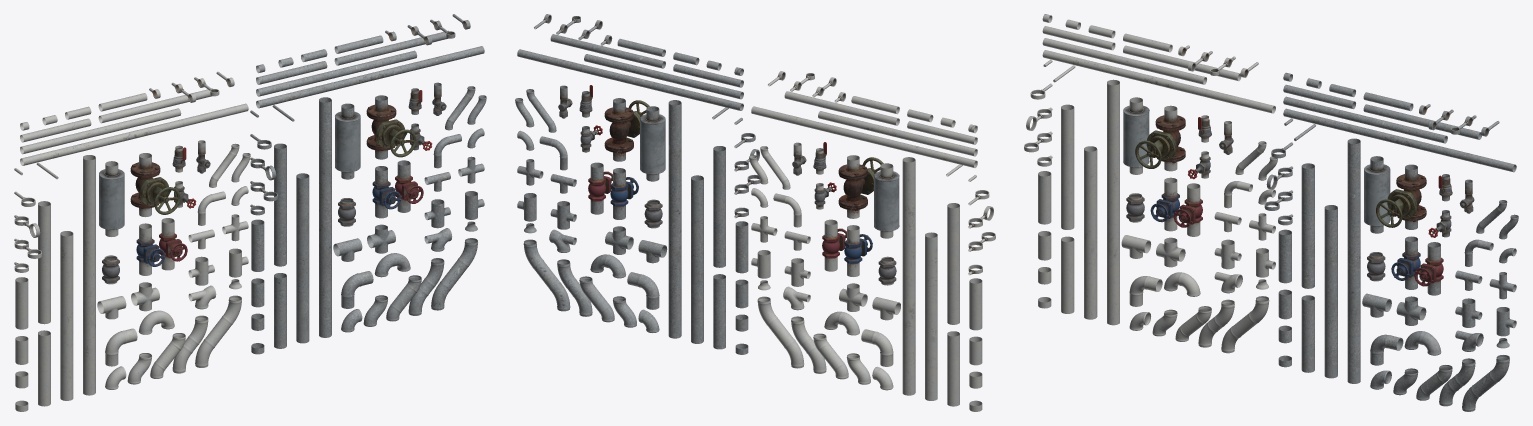
3 views of the same model, side by side, from view 1: azimuth 30°, elevation 25°; view 2: azimuth 150°, elevation 25°; view 3: azimuth 330°, elevation 25° (orthographic). The views are drawn at different scales.
Parts seen in each view (by area): view 1: pipe_200cm_pvc, pipe_200cm_metal, pipe_140cm_metal, pipe_140cm_pvc, pipe_thin_200cm_pvc, pipe_thin_200cm_metal, pipe_valve_large_metal, pipe_valve_large_pvc, pipe_chamber_large_metal, pipe_chamber_large_pvc, pipe_100cm_metal, pipe_100cm_pvc (+35 smaller); view 2: pipe_200cm_pvc, pipe_200cm_metal, pipe_140cm_pvc, pipe_140cm_metal, pipe_thin_200cm_metal, pipe_thin_200cm_pvc, pipe_chamber_large_metal, pipe_chamber_large_pvc, pipe_valve_large_pvc, pipe_valve_large_metal, pipe_100cm_metal, pipe_100cm_pvc (+35 smaller); view 3: pipe_200cm_metal, pipe_200cm_pvc, pipe_140cm_metal, pipe_140cm_pvc, pipe_thin_200cm_metal, pipe_thin_200cm_pvc, pipe_valve_large_pvc, pipe_valve_large_metal, pipe_100cm_pvc, pipe_100cm_metal, pipe_chamber_large_pvc, pipe_chamber_large_metal (+33 smaller).
Part boxes in pixels (bbox=[...]): pipe_200cm_pvc: bbox=[83, 155, 95, 395]; pipe_200cm_metal: bbox=[319, 97, 331, 337]; pipe_140cm_metal: bbox=[296, 173, 309, 343]; pipe_140cm_pvc: bbox=[60, 231, 73, 400]; pipe_thin_200cm_pvc: bbox=[20, 103, 248, 165]; pipe_thin_200cm_metal: bbox=[256, 46, 484, 108]; pipe_valve_large_metal: bbox=[366, 95, 416, 159]; pipe_valve_large_pvc: bbox=[130, 153, 180, 217]; pipe_chamber_large_metal: bbox=[335, 103, 360, 179]; pipe_chamber_large_pvc: bbox=[99, 161, 124, 236]; pipe_100cm_metal: bbox=[274, 143, 286, 266]; pipe_100cm_pvc: bbox=[38, 201, 50, 324]; pipe_200cm_pvc: bbox=[902, 157, 915, 395]; pipe_200cm_metal: bbox=[668, 100, 681, 338]; pipe_140cm_pvc: bbox=[925, 232, 937, 400]; pipe_140cm_metal: bbox=[691, 175, 703, 343]; pipe_thin_200cm_metal: bbox=[517, 49, 743, 110]; pipe_thin_200cm_pvc: bbox=[751, 106, 977, 167]; pipe_chamber_large_metal: bbox=[640, 106, 665, 181]; pipe_chamber_large_pvc: bbox=[874, 163, 899, 238]; pipe_valve_large_pvc: bbox=[838, 155, 883, 218]; pipe_valve_large_metal: bbox=[604, 98, 649, 161]; pipe_100cm_metal: bbox=[713, 146, 725, 267]; pipe_100cm_pvc: bbox=[947, 203, 959, 324]; pipe_200cm_metal: bbox=[1347, 138, 1360, 383]; pipe_200cm_pvc: bbox=[1107, 79, 1119, 325]; pipe_140cm_metal: bbox=[1324, 205, 1337, 378]; pipe_140cm_pvc: bbox=[1084, 146, 1097, 319]; pipe_thin_200cm_metal: bbox=[1283, 108, 1516, 172]; pipe_thin_200cm_pvc: bbox=[1042, 50, 1275, 113]; pipe_valve_large_pvc: bbox=[1135, 105, 1185, 171]; pipe_valve_large_metal: bbox=[1376, 164, 1426, 229]; pipe_100cm_pvc: bbox=[1061, 104, 1074, 229]; pipe_100cm_metal: bbox=[1301, 163, 1314, 288]; pipe_chamber_large_pvc: bbox=[1123, 97, 1149, 174]; pipe_chamber_large_metal: bbox=[1364, 156, 1390, 233].
Size of the model in its own units: 4.19 by 2.43 by 0.4578.
Materials: 2 (2 with a texture image).
